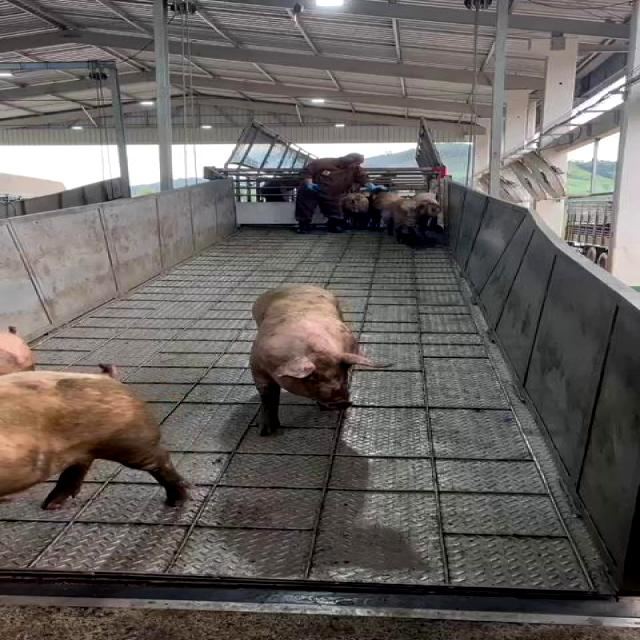pig: (0, 371, 188, 509), (250, 285, 387, 434)
